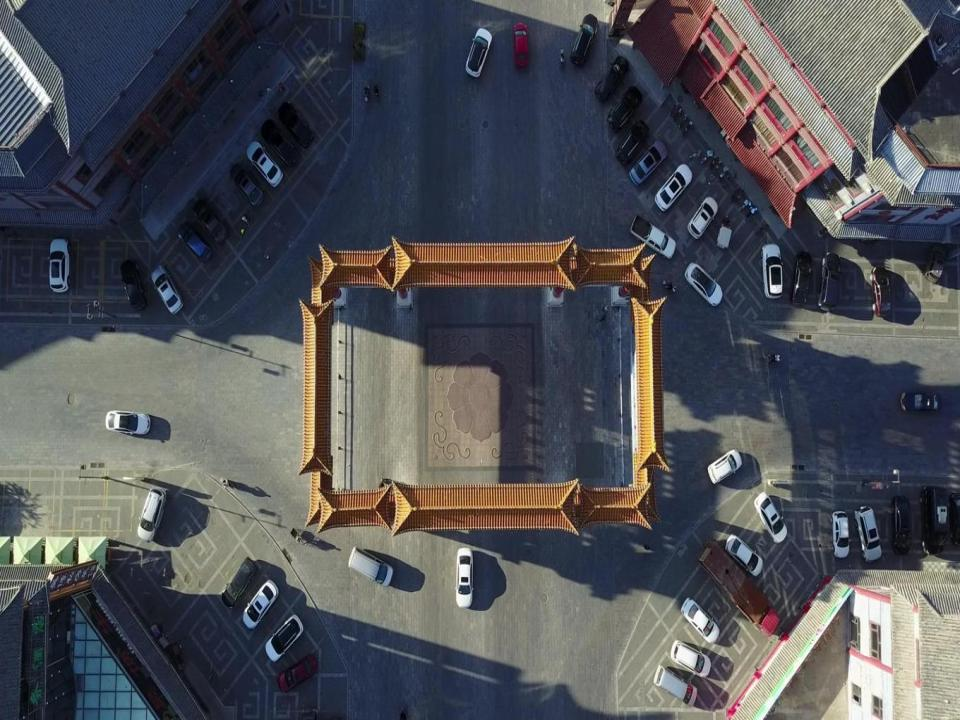car: (631, 212, 674, 262), (262, 614, 306, 662), (652, 162, 692, 209), (242, 578, 280, 627), (221, 557, 258, 607), (630, 141, 668, 189), (653, 665, 695, 708), (462, 25, 494, 81), (855, 507, 886, 564), (349, 546, 394, 585), (244, 140, 283, 184), (594, 56, 628, 106), (277, 655, 318, 695), (670, 639, 710, 680), (680, 600, 718, 643), (686, 264, 722, 308), (608, 88, 641, 136), (618, 120, 652, 166), (724, 536, 761, 578), (230, 162, 266, 205), (754, 494, 786, 541), (192, 200, 228, 241), (150, 267, 184, 310), (571, 12, 597, 68), (686, 194, 719, 238), (119, 259, 148, 309), (177, 221, 216, 256), (925, 486, 945, 554), (819, 252, 841, 312), (791, 248, 813, 308), (707, 450, 743, 486), (762, 242, 784, 297), (139, 490, 163, 540), (455, 547, 473, 610), (105, 412, 150, 436), (893, 495, 911, 553), (49, 239, 69, 291), (872, 266, 892, 316), (899, 390, 941, 411), (511, 22, 531, 66), (925, 241, 947, 280), (947, 487, 960, 545), (834, 509, 849, 557)
truck: (702, 540, 780, 636)
